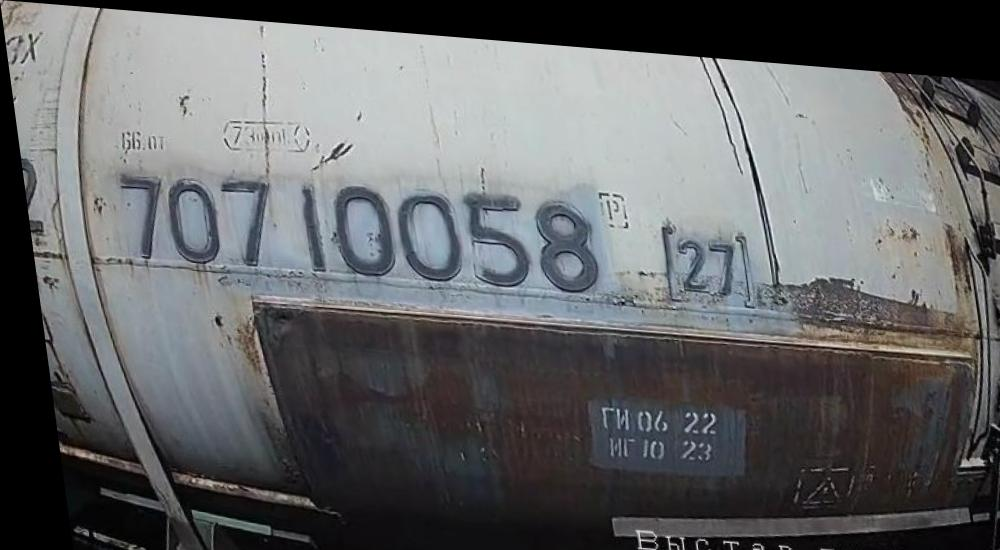Wagon-number: (105, 163, 602, 290)
